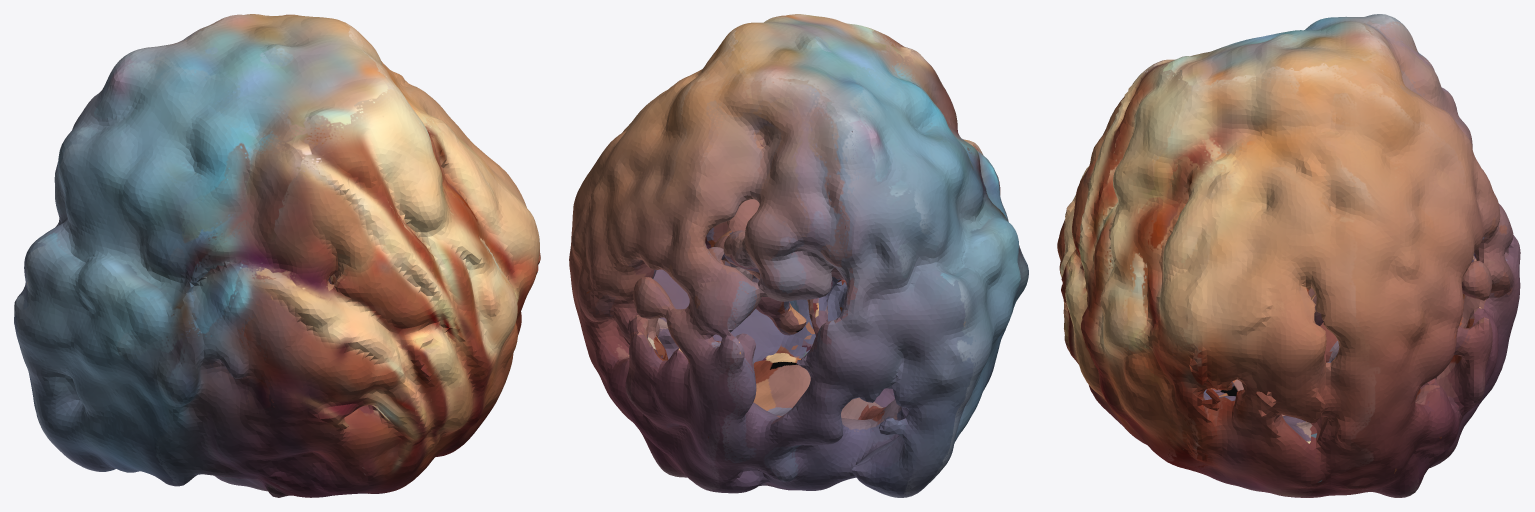
Rendered from rock.glb.
The picture shows the model from 3 angles, left to right: view 1: azimuth 30°, elevation 25°; view 2: azimuth 150°, elevation 25°; view 3: azimuth 270°, elevation 25°; orthographic projection. The views are drawn at different scales.
Bounding box in the file's own units: 1.4 × 1.32 × 1.29.
1 material, 1 textured.
